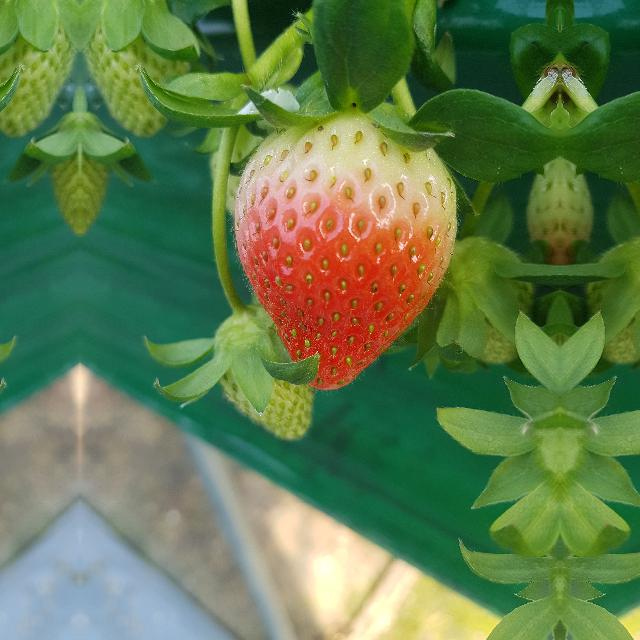Health_75: (230, 102, 458, 390)
